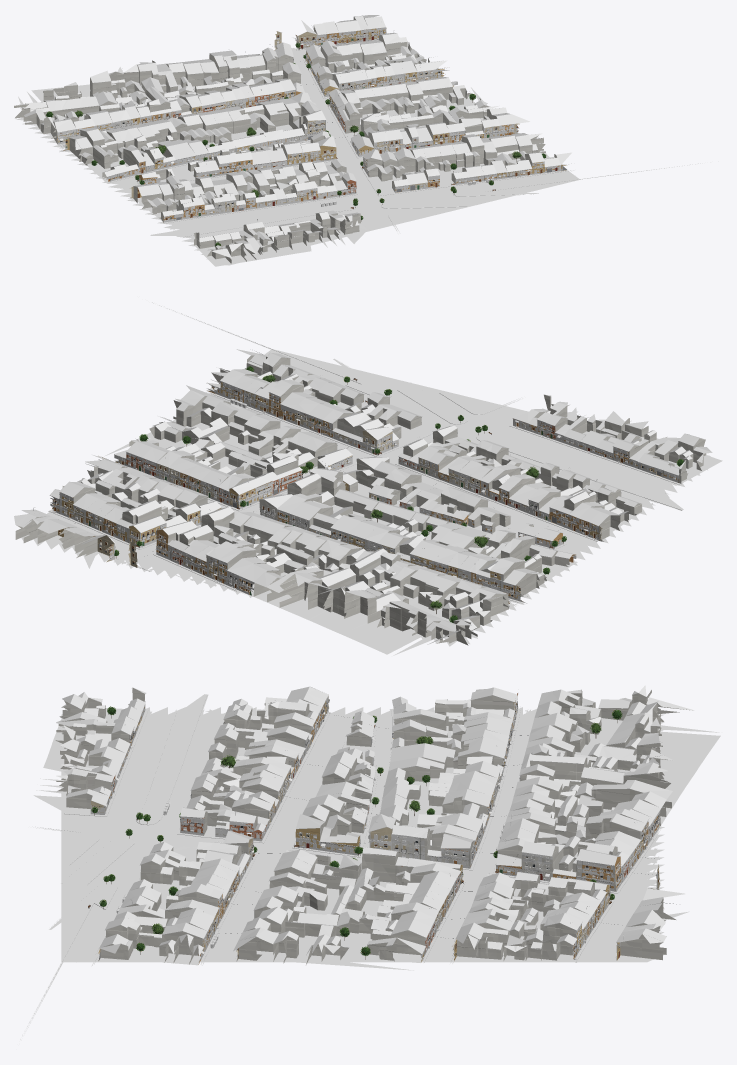
File: zona_1_-3.glb
The picture shows the model from 3 angles, top to bottom: view 1: azimuth 30°, elevation 25°; view 2: azimuth 150°, elevation 25°; view 3: azimuth 270°, elevation 25°; orthographic projection. The views are drawn at different scales.
Visible parts, largest first — view 1: z_tejados_1_-3, z_casas_1_-3, z_calle_1_-3, z_fachadas_1_-3, z_suelo_1_-3, z_casas_planas_1_-3, z_arboles_1_-3, z_detalles_pueblo_1_-3; view 2: z_tejados_1_-3, z_casas_1_-3, z_calle_1_-3, z_fachadas_1_-3, z_suelo_1_-3, z_detalles_pueblo_1_-3, z_arboles_1_-3, z_casas_planas_1_-3; view 3: z_tejados_1_-3, z_casas_1_-3, z_calle_1_-3, z_suelo_1_-3, z_fachadas_1_-3, z_arboles_1_-3, z_casas_planas_1_-3, z_detalles_pueblo_1_-3, z_objetos_1_-3.
Part boxes in pixels (x1,y1,x2,y2): z_tejados_1_-3: (16,15,571,257); z_casas_1_-3: (14,17,566,263); z_calle_1_-3: (16,37,700,266); z_fachadas_1_-3: (57,27,566,220); z_suelo_1_-3: (56,35,577,241); z_casas_planas_1_-3: (53,61,554,254); z_arboles_1_-3: (46,42,546,246); z_detalles_pueblo_1_-3: (64,35,562,222); z_tejados_1_-3: (14,349,712,644); z_casas_1_-3: (15,355,706,645); z_calle_1_-3: (21,302,722,655); z_fachadas_1_-3: (50,381,678,608); z_suelo_1_-3: (52,350,678,608); z_detalles_pueblo_1_-3: (53,396,678,601); z_arboles_1_-3: (114,366,684,622); z_casas_planas_1_-3: (94,361,657,630); z_tejados_1_-3: (56,685,694,956); z_casas_1_-3: (56,688,689,964); z_calle_1_-3: (20,694,720,1040); z_suelo_1_-3: (64,709,660,962); z_fachadas_1_-3: (90,693,660,962); z_arboles_1_-3: (91,706,622,959); z_casas_planas_1_-3: (55,713,661,959); z_detalles_pueblo_1_-3: (90,704,659,961); z_objetos_1_-3: (103,701,658,959).
Bounding box in the file's own units: 285 × 13 × 240.
